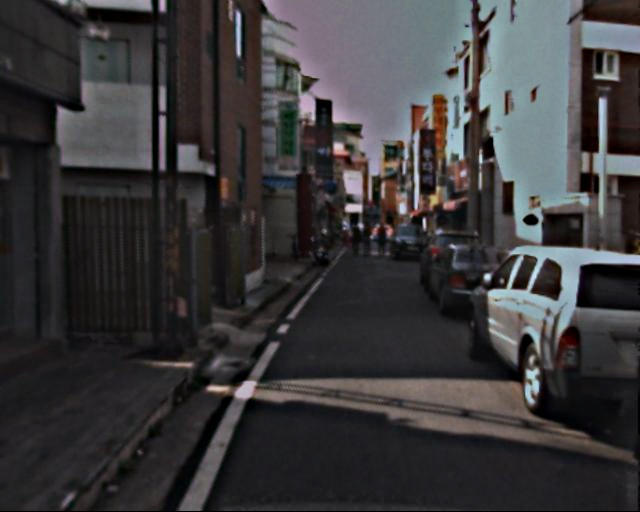person: (375, 221, 391, 259), (347, 224, 362, 261), (363, 223, 377, 258)
